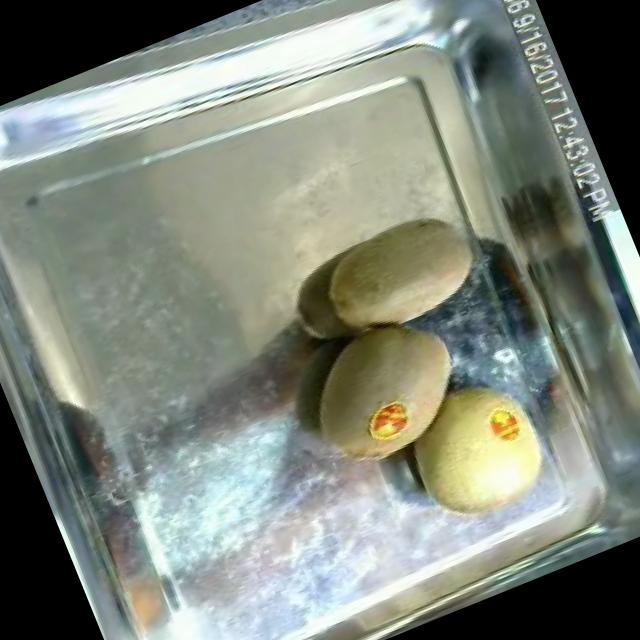Fruit: (278, 292, 488, 488), (382, 356, 570, 544), (298, 190, 498, 353)
